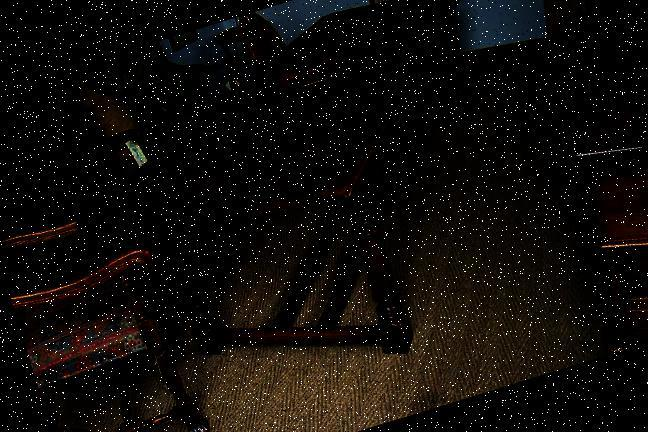Mesa: (38, 0, 555, 431)
Silla: (0, 163, 233, 431), (230, 0, 383, 181), (336, 0, 476, 133)
